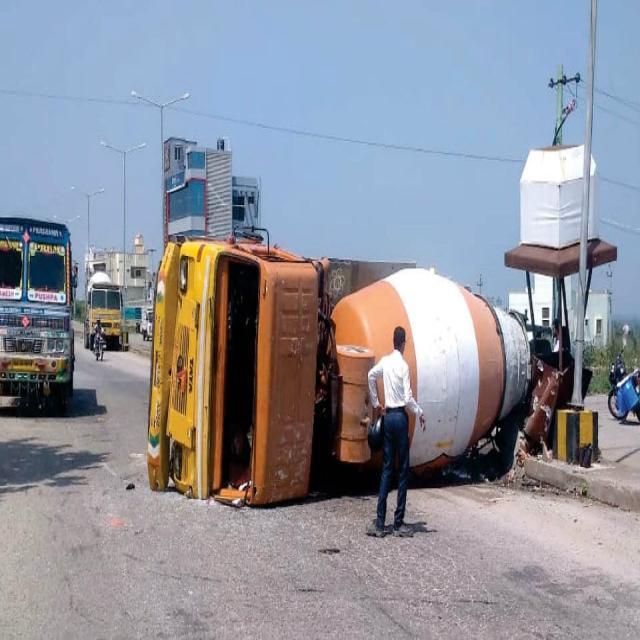accident: (148, 238, 530, 506)
truck: (0, 216, 75, 410), (84, 271, 124, 349)
